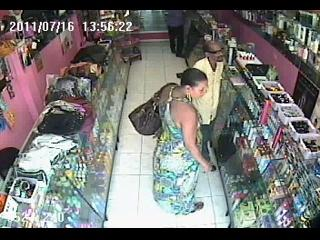Normal: (151, 68, 212, 216), (191, 40, 226, 164), (128, 82, 178, 136)
